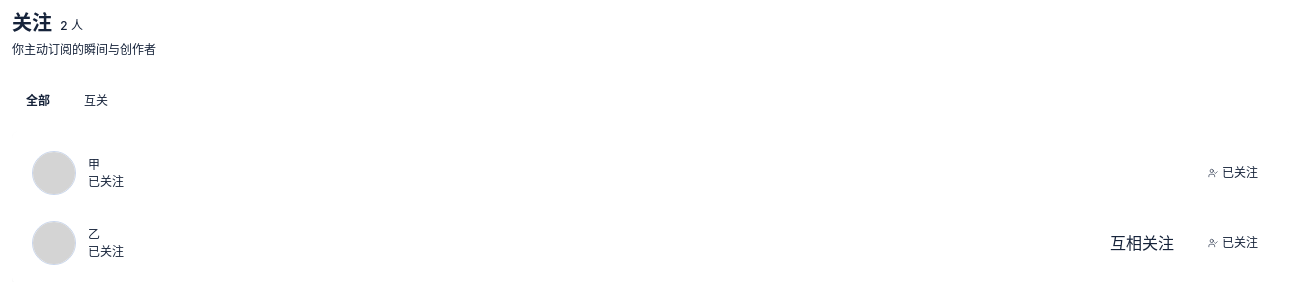
Test: SectionFollowing › 取关成功：行立即移除、计数同步为 1 人
Click the 1st button "已关注" at (1233, 173), box [1194,157,1272,189]
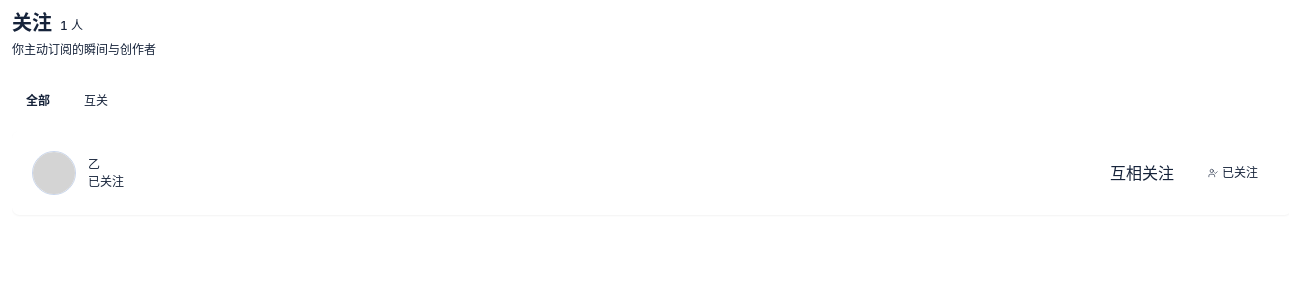
Expected: the text "1 人" is shown, [60,18,83,34]
